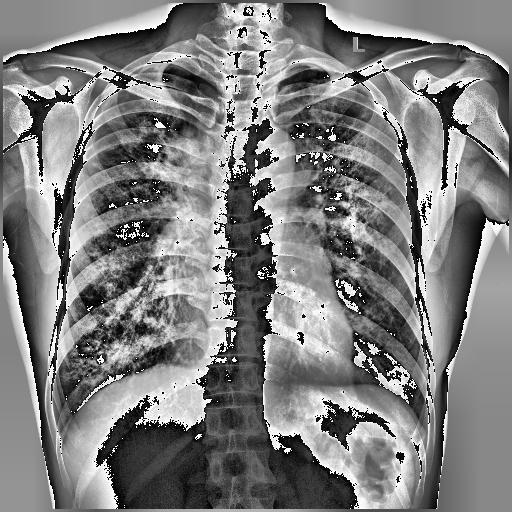13- Pulmonary fibrosis: (58, 90, 196, 382), (54, 228, 190, 382), (312, 84, 408, 272), (324, 110, 390, 238), (105, 92, 179, 182), (90, 142, 160, 186)
5- ILD: (62, 116, 210, 386), (280, 84, 406, 386), (54, 228, 190, 382)
6- Infiltration: (58, 90, 196, 382), (54, 228, 190, 382), (312, 84, 408, 272), (324, 110, 390, 238)
7- Lung Opacity: (54, 228, 190, 382)
9- Other lesion: (58, 90, 196, 382)
